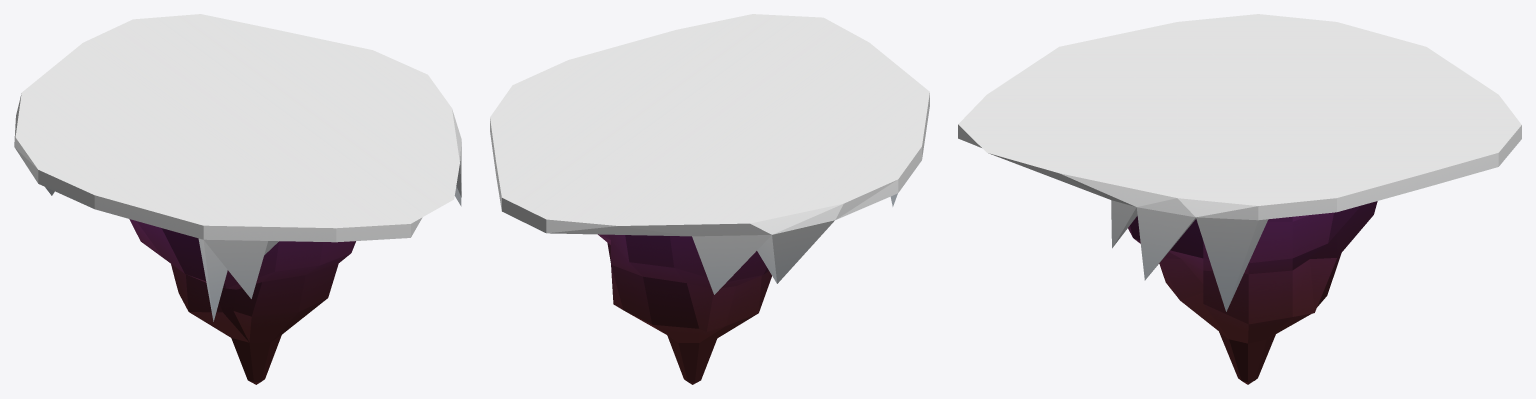
Rendered from MOD_PlatformV4_1.fbx.
3 renders of one model, left to right at view 1: azimuth 30°, elevation 25°; view 2: azimuth 150°, elevation 25°; view 3: azimuth 270°, elevation 25°, orthographic. The views are drawn at different scales.
Visible parts, largest first — view 1: MOD_ICE_Platform1, MOD_Platform1; view 2: MOD_ICE_Platform1, MOD_Platform1; view 3: MOD_ICE_Platform1, MOD_Platform1.
Boxes of the visible parts, <box> form: MOD_ICE_Platform1: <box>14,14,461,321</box>; MOD_Platform1: <box>129,219,355,384</box>; MOD_ICE_Platform1: <box>490,14,929,294</box>; MOD_Platform1: <box>598,234,771,384</box>; MOD_ICE_Platform1: <box>958,14,1521,311</box>; MOD_Platform1: <box>1128,201,1377,384</box>.
Bounding box in the file's own units: 2.55 × 1.64 × 3.16.
Materials: 2 (2 with a texture image).
